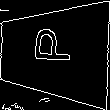P_W: (33, 33, 76, 73)
